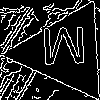M: (40, 26, 89, 75)
